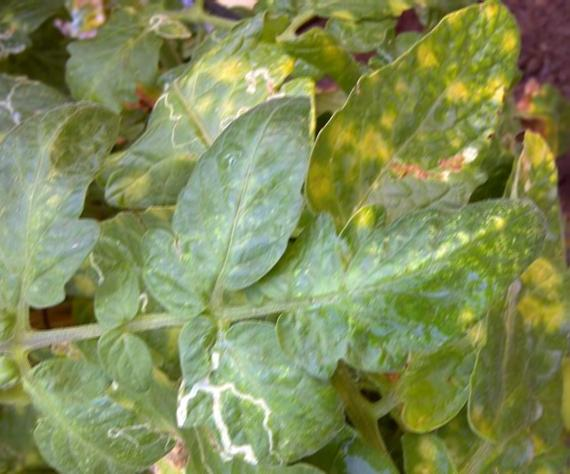Tomato mold leaf: (257, 196, 564, 382), (309, 0, 533, 246), (153, 88, 328, 301), (0, 71, 142, 329), (18, 348, 186, 474)
